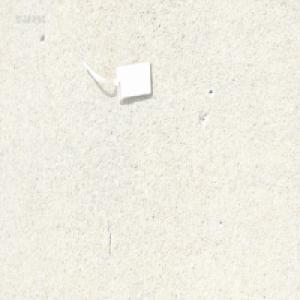LuggageTag: (81, 57, 153, 103)
